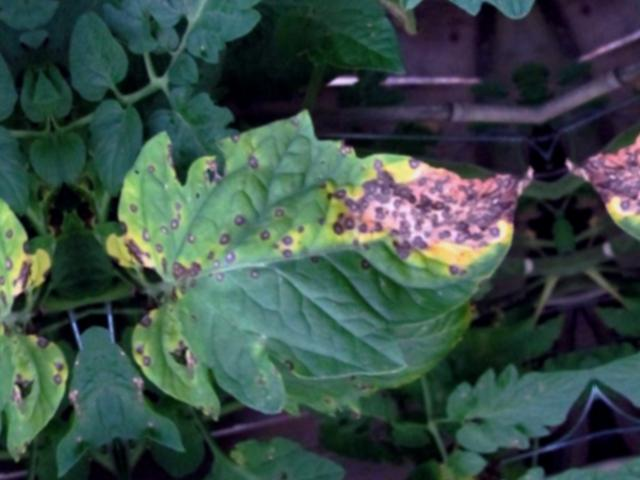Tomato Septoria leaf spot: (94, 51, 573, 432)
